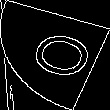O_E: (15, 26, 95, 84)
